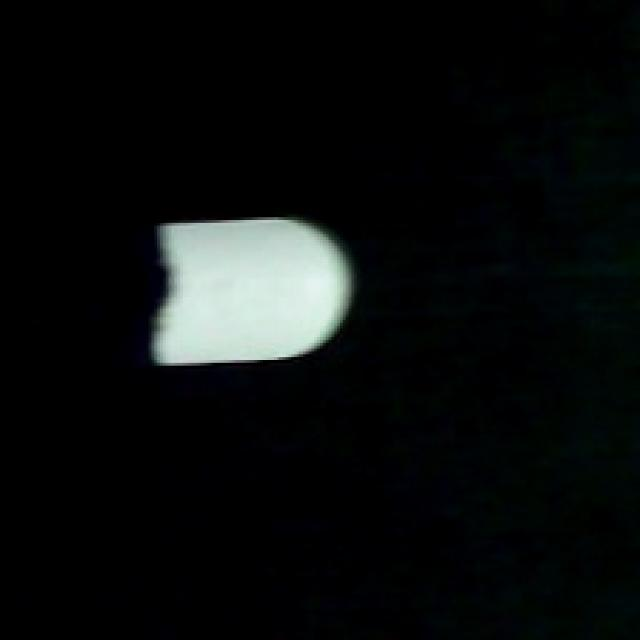defected: (146, 211, 357, 377)
